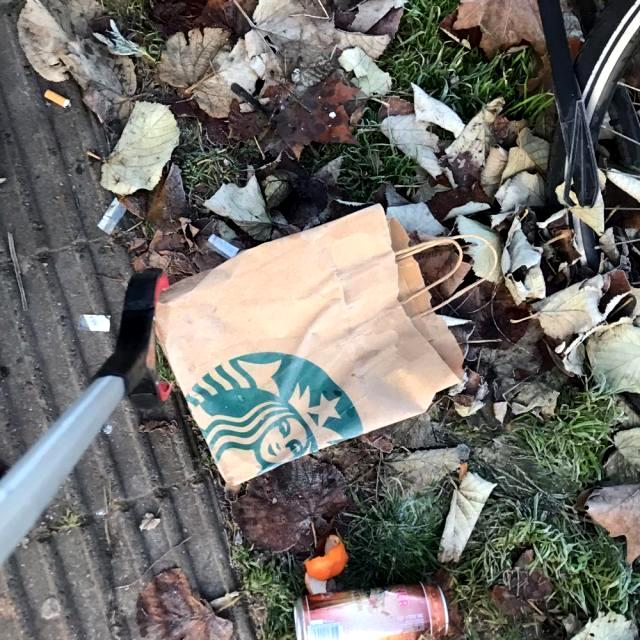Metal: (290, 578, 450, 640)
Paper: (150, 200, 500, 488)
